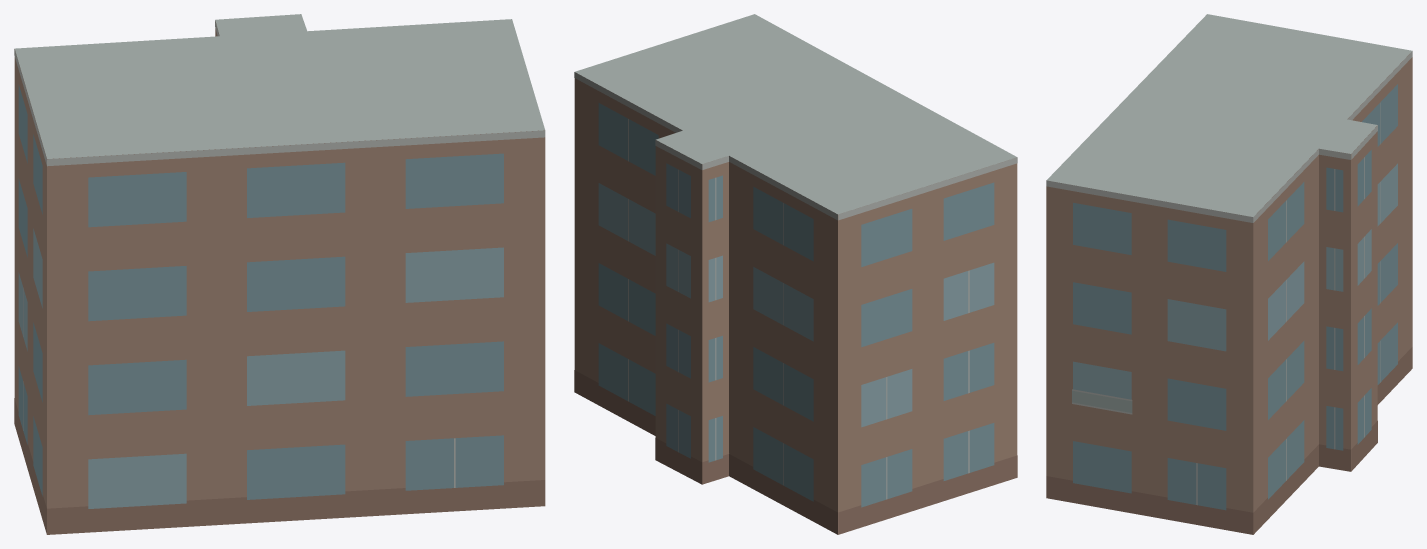
Rendered from survey-upis-33003679.glb.
The picture shows the model from 3 angles, left to right: view 1: azimuth 30°, elevation 25°; view 2: azimuth 150°, elevation 25°; view 3: azimuth 270°, elevation 25°; orthographic projection. The views are drawn at different scales.
Parts seen in each view (by area): view 1: survey-upis-33003679.tmp; view 2: survey-upis-33003679.tmp; view 3: survey-upis-33003679.tmp.
Part boxes in pixels (box(x1,y1,x2,y2)): survey-upis-33003679.tmp: box(14, 14, 545, 534); survey-upis-33003679.tmp: box(574, 14, 1017, 534); survey-upis-33003679.tmp: box(1046, 14, 1412, 534).
Bounding box in the file's own units: 17.77 × 12.95 × 13.54.
